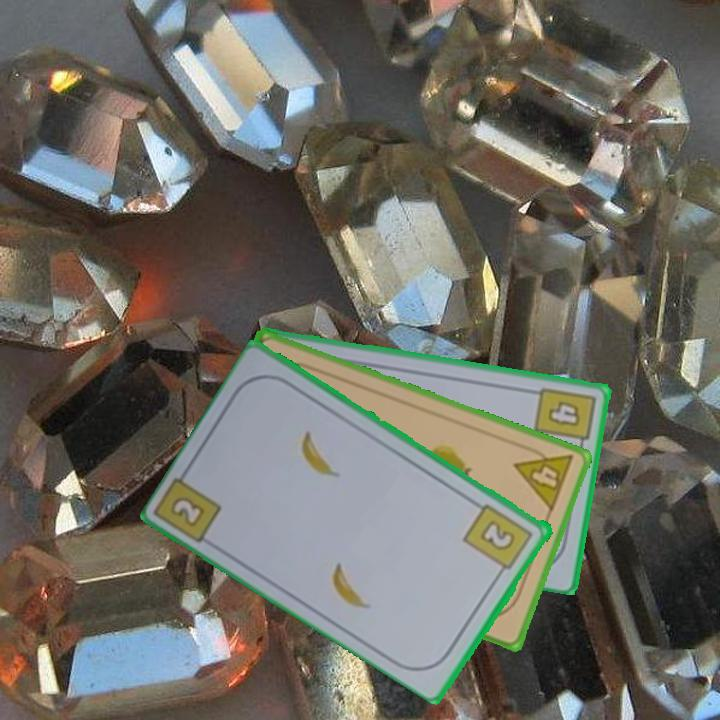2b: (460, 500, 536, 579), (167, 492, 209, 530)
4b: (531, 383, 598, 454)
4p: (510, 440, 576, 515)
